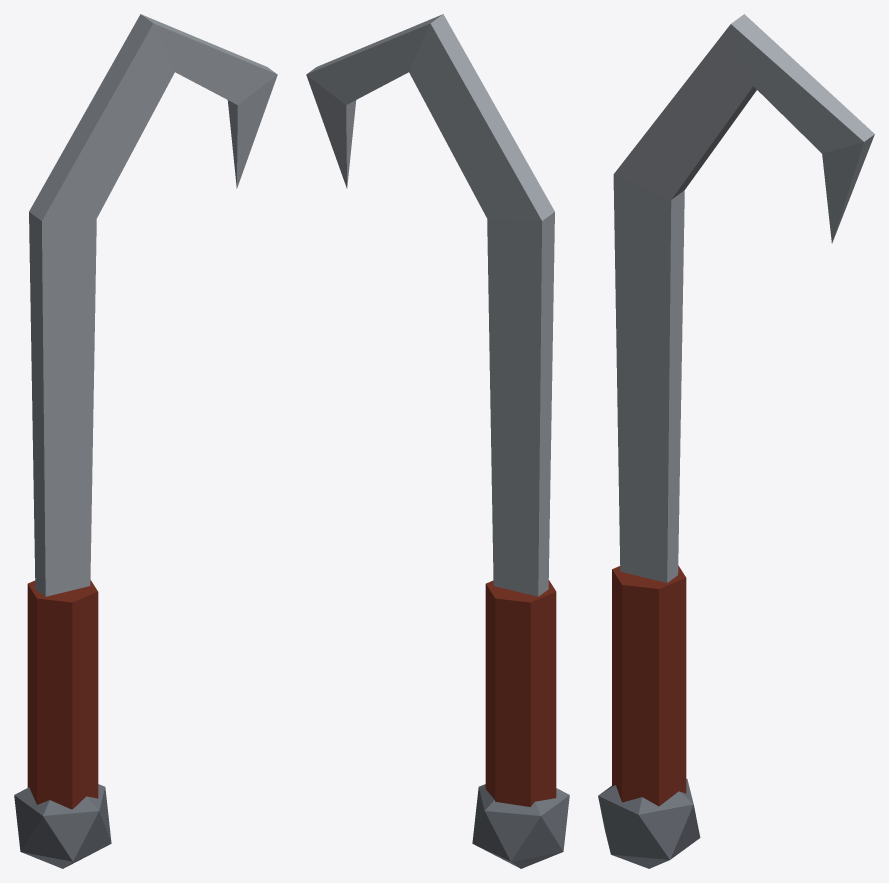
File: gear_hooks.glb
The picture shows the model from 3 angles, left to right: view 1: azimuth 30°, elevation 25°; view 2: azimuth 150°, elevation 25°; view 3: azimuth 330°, elevation 25°; orthographic projection. The views are drawn at different scales.
Visible parts, largest first — view 1: gear_hooks; view 2: gear_hooks; view 3: gear_hooks.
Boxes of the visible parts, left/top/right/bottom form: gear_hooks: left=14, top=14, right=277, bottom=868; gear_hooks: left=306, top=14, right=569, bottom=868; gear_hooks: left=598, top=14, right=874, bottom=868.
Size of the model in its own units: 0.1914 by 0.6016 by 0.0612.
